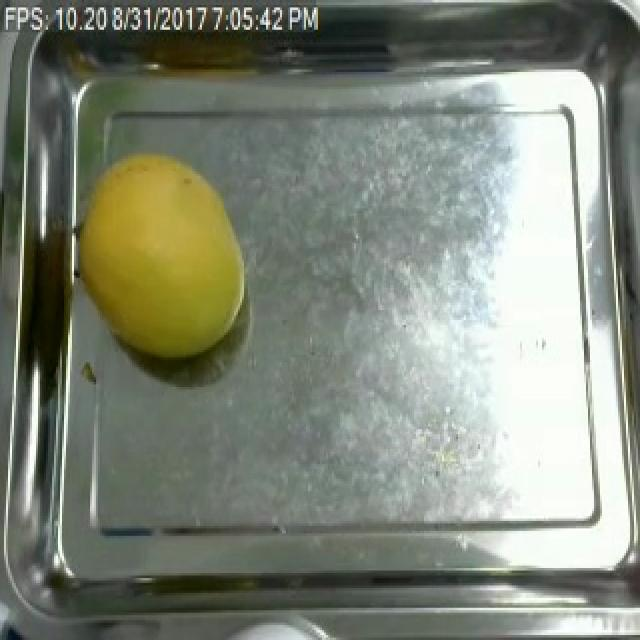fruit: (66, 142, 256, 374)
